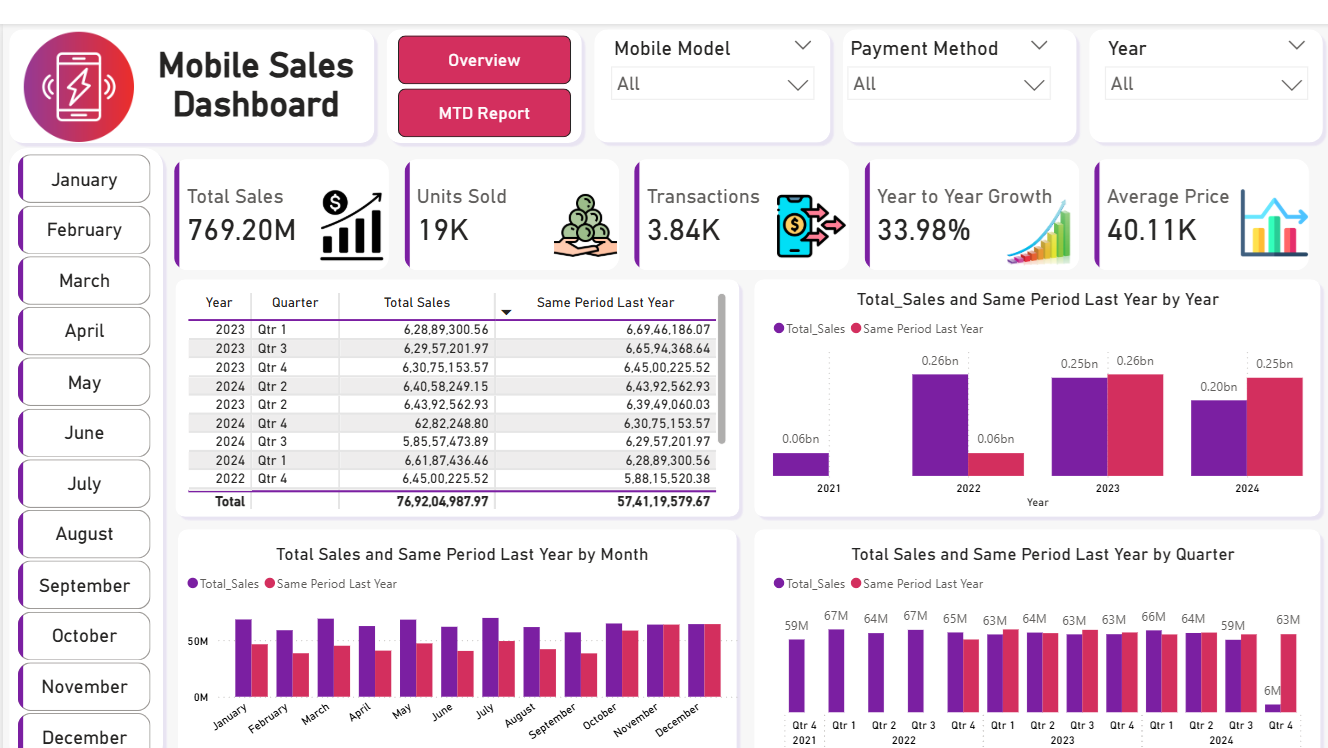

The page's visual inventory and layout, read from the dashboard file:
{"tool":"powerbi","page":{"name":"Same Period Last Year","canvas":[1280,720],"ordinal":2},"visuals":[{"type":"shape","box":[0,0,364.3,121.9],"z":0},{"type":"image","box":[9.7,8.4,126.7,106.2],"z":1000},{"type":"shape","box":[364.3,0,200.3,121.9],"z":2000},{"type":"shape","box":[0,114.6,160.5,605.6],"z":3000},{"type":"advancedSlicerVisual","fields":{"Values":["Custom_Date.Date.Variation.Date Hierarchy.Month"]},"box":[9.7,121.9,138.7,598.4],"z":4000},{"type":"textbox","box":[136.3,15.7,216,91.7],"z":5000},{"type":"shape","box":[565,0,240,121.2],"z":6000},{"type":"shape","box":[1042.5,0,237.5,121.2],"z":7000},{"type":"shape","box":[805,0,237.5,121.2],"z":8000},{"type":"slicer","fields":{"Values":["Mobile_Sales_Data.Mobile Model"]},"box":[576.2,8.8,216.2,88.8],"z":9000},{"type":"slicer","fields":{"Values":["Mobile_Sales_Data.Payment Method"]},"box":[805,8.8,216.2,88.8],"z":10000},{"type":"slicer","fields":{"Values":["Custom_Date.Date.Variation.Date Hierarchy.Year"]},"box":[1053.8,8.8,216.2,88.8],"z":11000},{"type":"cardVisual","fields":{"Data":["Mobile_Sales_Data.Total_Sales","Mobile_Sales_Data.Total_Quantity","Mobile_Sales_Data.Transactions","Mobile_Sales_Data.YoY Growth %","Mobile_Sales_Data.Average_Price"]},"box":[148.4,114.6,1131.6,141.2],"z":12000},{"type":"image","box":[485,162.9,154.4,65.1],"z":13000},{"type":"image","box":[901.2,152,195.4,89.3],"z":14000},{"type":"image","box":[272.7,160.5,127.9,70],"z":15000},{"type":"image","box":[716.6,162.9,127.9,66.4],"z":16000},{"type":"image","box":[1173.9,160.5,106.2,65.1],"z":17000},{"type":"shape","box":[160.5,241.3,556.2,241.3],"z":18000},{"type":"shape","box":[162.9,482.6,551.3,237.7],"z":19000},{"type":"shape","box":[719,482.6,558.6,237.7],"z":20000},{"type":"shape","box":[719,241.3,558.6,241.3],"z":21000},{"type":"tableEx","fields":{"Values":["Custom_Date.Date.Variation.Date Hierarchy.Year","Custom_Date.Date.Variation.Date Hierarchy.Quarter","Mobile_Sales_Data.Total_Sales","Mobile_Sales_Data.Same Period Last Year"]},"box":[172.5,255.8,530.8,218.4],"z":22000},{"type":"clusteredColumnChart","fields":{"Category":["Custom_Date.Date.Variation.Date Hierarchy.Year","Custom_Date.Date.Variation.Date Hierarchy.Quarter"],"Y":["Mobile_Sales_Data.Total_Sales","Mobile_Sales_Data.Same Period Last Year"]},"box":[738.3,255.8,521.2,218.4],"z":23000},{"type":"clusteredColumnChart","title":"Total Sales and Same Period Last Year by Quarter","fields":{"Y":["Mobile_Sales_Data.Total_Sales","Mobile_Sales_Data.Same Period Last Year"],"Category":["Custom_Date.Date.Variation.Date Hierarchy.Year","Custom_Date.Date.Variation.Date Hierarchy.Quarter","Custom_Date.Date.Variation.Date Hierarchy.Month","Custom_Date.Date.Variation.Date Hierarchy.Day"]},"box":[738.3,501.9,530.8,218.4],"z":24000},{"type":"clusteredColumnChart","title":"Total Sales and Same Period Last Year by Month","fields":{"Y":["Mobile_Sales_Data.Total_Sales","Mobile_Sales_Data.Same Period Last Year"],"Category":["Custom_Date.Date.Variation.Date Hierarchy.Month","Custom_Date.Date.Variation.Date Hierarchy.Day"]},"box":[172.5,501.9,541.7,218.4],"z":25000},{"type":"pageNavigator","box":[381.2,12.1,167.7,98.9],"z":26000}]}

Visuals, with their boxes in screenshot pixels (x1, y1, x2, y2), scaled from the page's 1280x720 canvas onto the 1328x748 screenshot:
shape: box=[0, 0, 378, 127]
image: box=[10, 9, 142, 119]
shape: box=[378, 0, 586, 127]
shape: box=[0, 119, 167, 747]
advancedSlicerVisual - Custom_Date.Date.Variation.Date Hierarchy.Month: box=[10, 127, 154, 747]
textbox: box=[141, 16, 366, 112]
shape: box=[586, 0, 835, 126]
shape: box=[1082, 0, 1327, 126]
shape: box=[835, 0, 1082, 126]
slicer - Mobile_Sales_Data.Mobile Model: box=[598, 9, 822, 101]
slicer - Mobile_Sales_Data.Payment Method: box=[835, 9, 1059, 101]
slicer - Custom_Date.Date.Variation.Date Hierarchy.Year: box=[1093, 9, 1318, 101]
cardVisual - Mobile_Sales_Data.Total_Sales x Mobile_Sales_Data.Total_Quantity: box=[154, 119, 1327, 266]
image: box=[503, 169, 663, 237]
image: box=[935, 158, 1138, 251]
image: box=[283, 167, 416, 239]
image: box=[743, 169, 876, 238]
image: box=[1218, 167, 1327, 234]
shape: box=[167, 251, 744, 501]
shape: box=[169, 501, 741, 747]
shape: box=[746, 501, 1326, 747]
shape: box=[746, 251, 1326, 501]
tableEx - Custom_Date.Date.Variation.Date Hierarchy.Year x Custom_Date.Date.Variation.Date Hierarchy.Quarter: box=[179, 266, 730, 493]
clusteredColumnChart - Custom_Date.Date.Variation.Date Hierarchy.Year x Custom_Date.Date.Variation.Date Hierarchy.Quarter: box=[766, 266, 1307, 493]
"Total Sales and Same Period Last Year by Quarter" clusteredColumnChart: box=[766, 521, 1317, 747]
"Total Sales and Same Period Last Year by Month" clusteredColumnChart: box=[179, 521, 741, 747]
pageNavigator: box=[395, 13, 569, 115]
